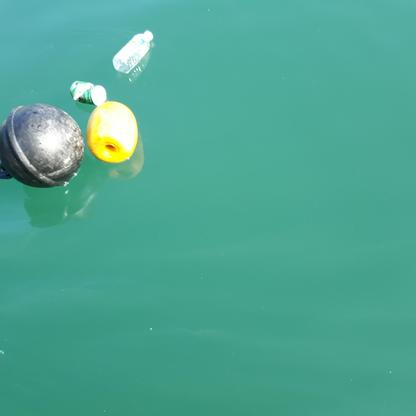can: (68, 78, 106, 104)
plastic bottle: (112, 29, 154, 72)
